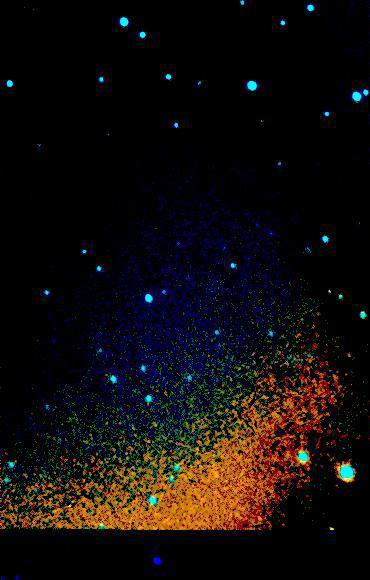star: (247, 105, 277, 135)
